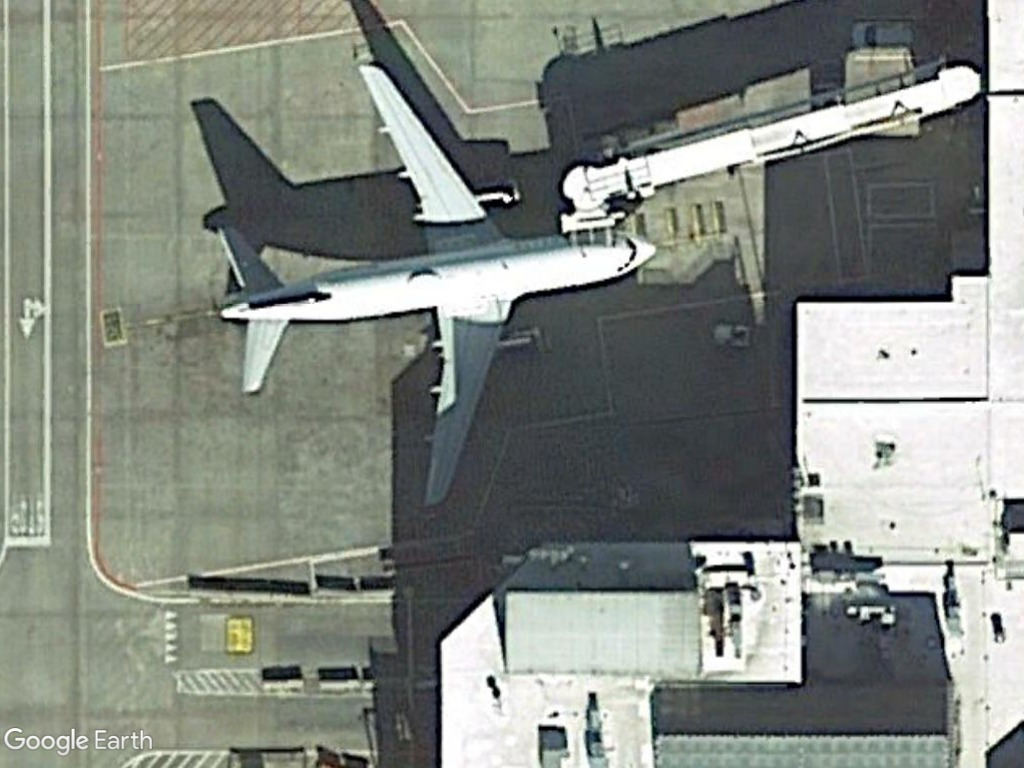airliner: (198, 53, 659, 518)
